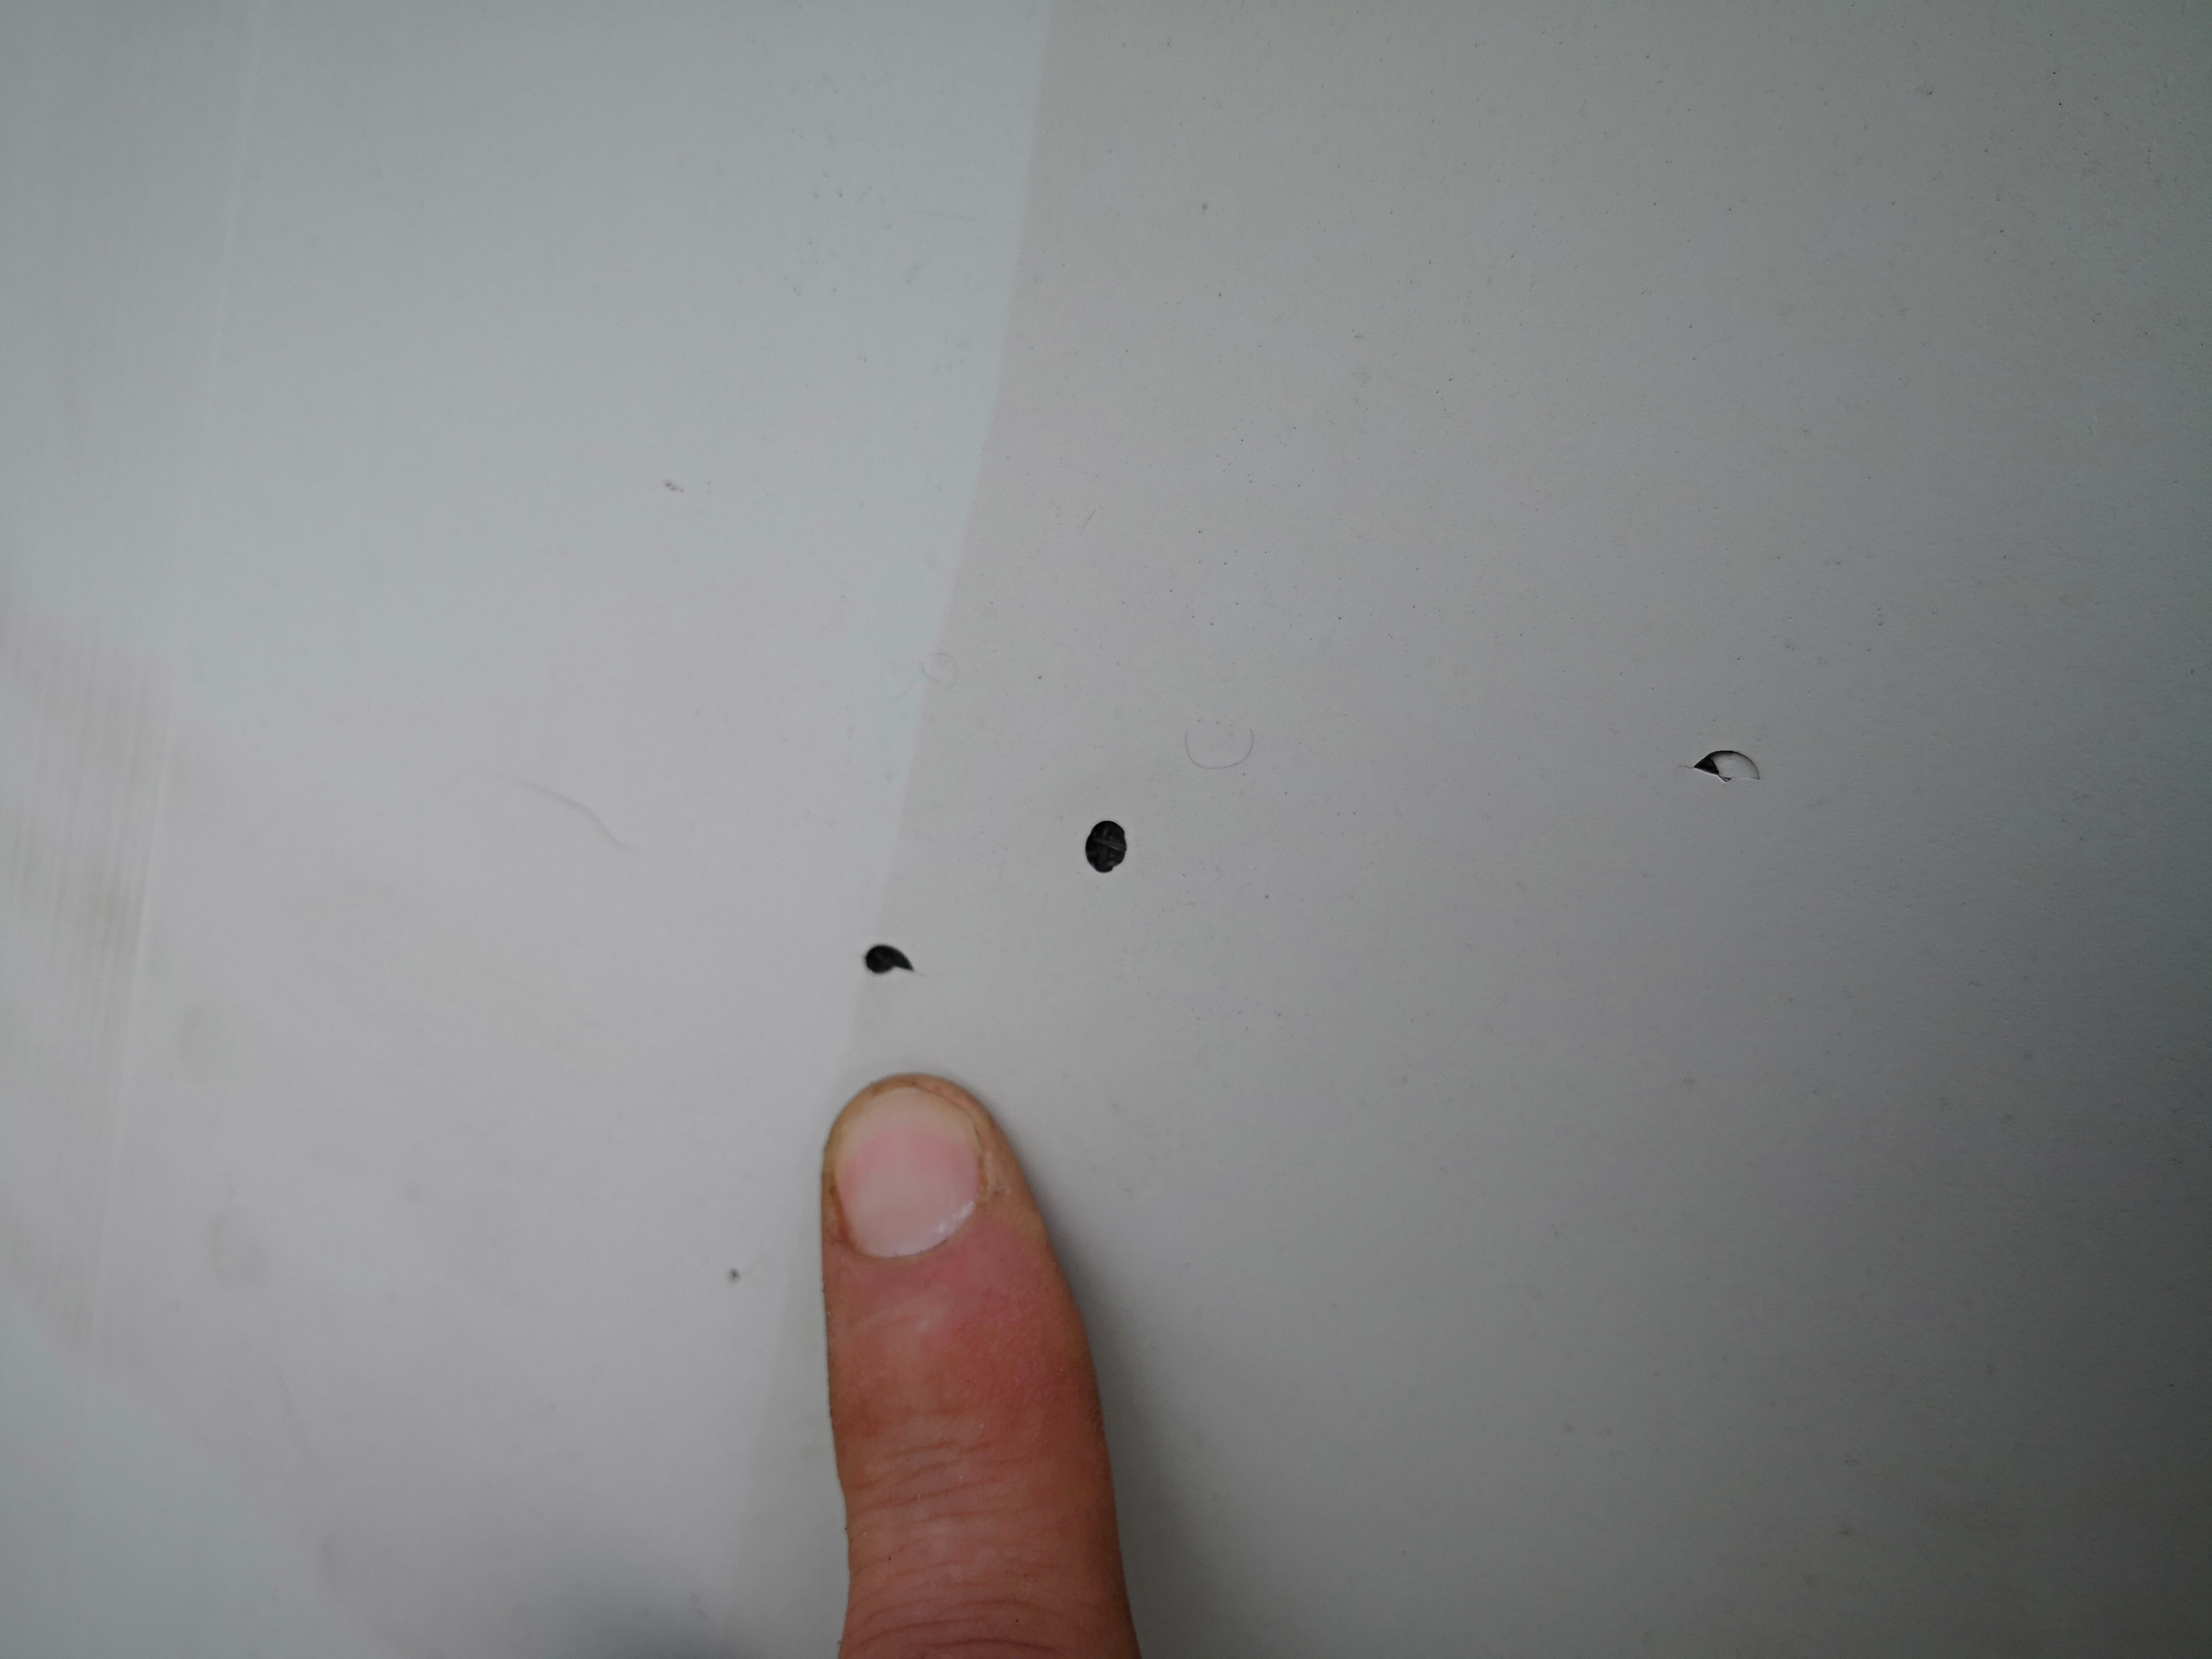SD: (1165, 713, 1289, 793), (1662, 735, 1789, 800), (1069, 809, 1141, 884), (857, 927, 925, 971)
